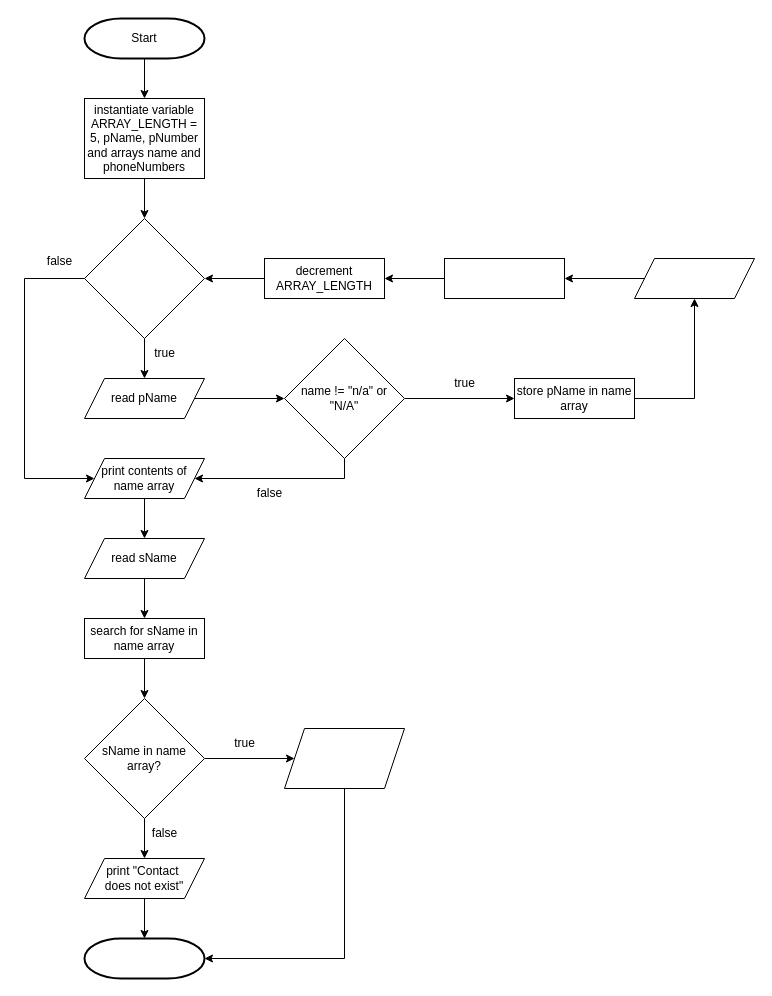
Image size: 772x996. Some labels were removed from this diagram. The centre of each missing label's shape, as x and y in pixels:
ARRAY_ LENGTH >= 0: (x=144, y=278)
End: (x=144, y=958)
print name and phone number of sName: (x=344, y=758)
read pNumber: (x=694, y=278)
store pNumber in phoneNumbers array: (x=504, y=278)
